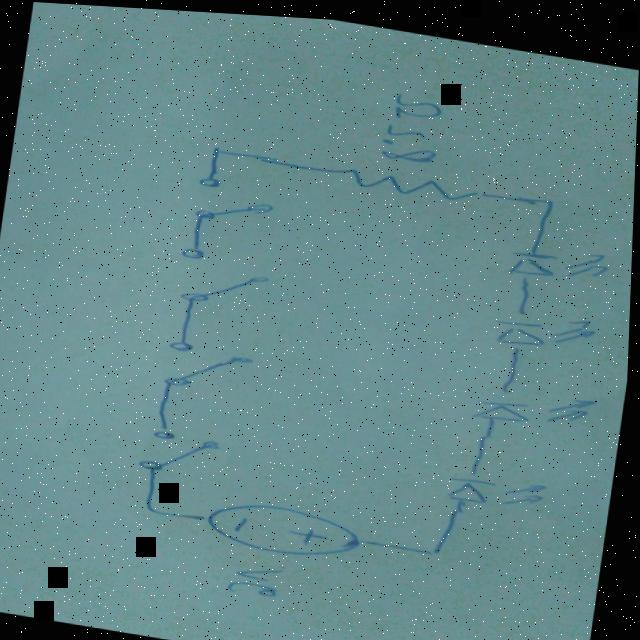diode: (468, 373, 600, 430), (499, 231, 617, 287), (492, 298, 602, 352), (444, 462, 553, 510)
junction: (196, 136, 237, 160), (137, 497, 176, 519), (420, 537, 455, 557), (532, 187, 563, 203)
resistor: (326, 156, 483, 201)
source: (210, 492, 368, 563)
switch: (163, 241, 281, 312), (156, 335, 259, 396), (186, 170, 282, 228), (137, 421, 225, 479)
text: (373, 84, 450, 166), (224, 555, 297, 601)
